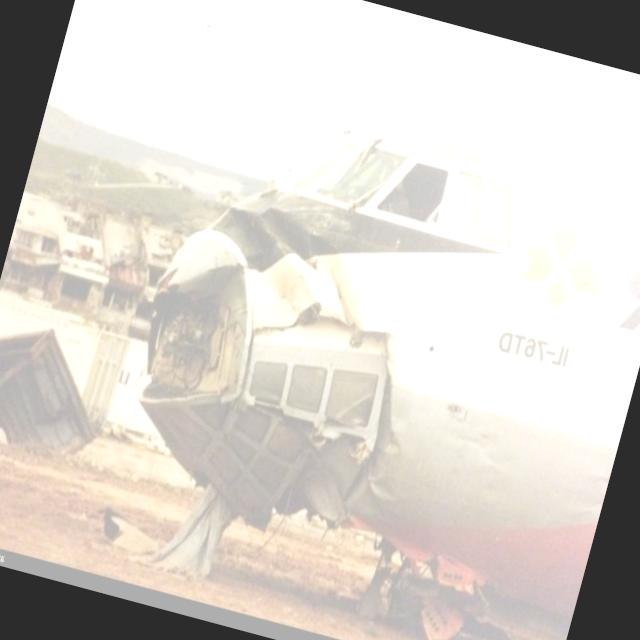dent: (364, 428, 418, 509)
